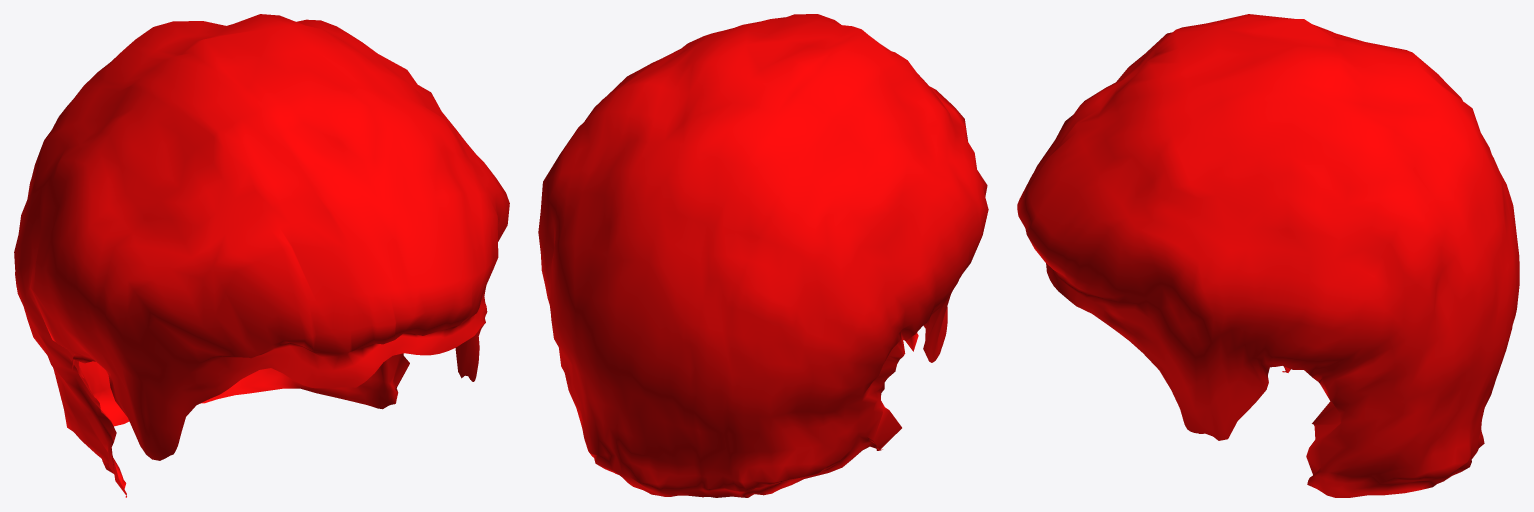
The model's file is short02_M.glb.
The picture shows the model from 3 angles, left to right: view 1: azimuth 30°, elevation 25°; view 2: azimuth 150°, elevation 25°; view 3: azimuth 270°, elevation 25°; orthographic projection. The views are drawn at different scales.
Bounding box in the file's own units: 0.1983 × 0.2012 × 0.2236.
1 material, 1 textured.
